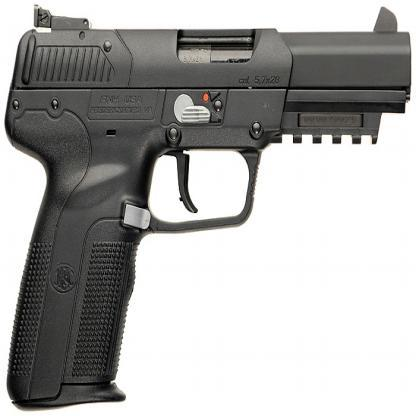gun: (2, 4, 416, 405)
